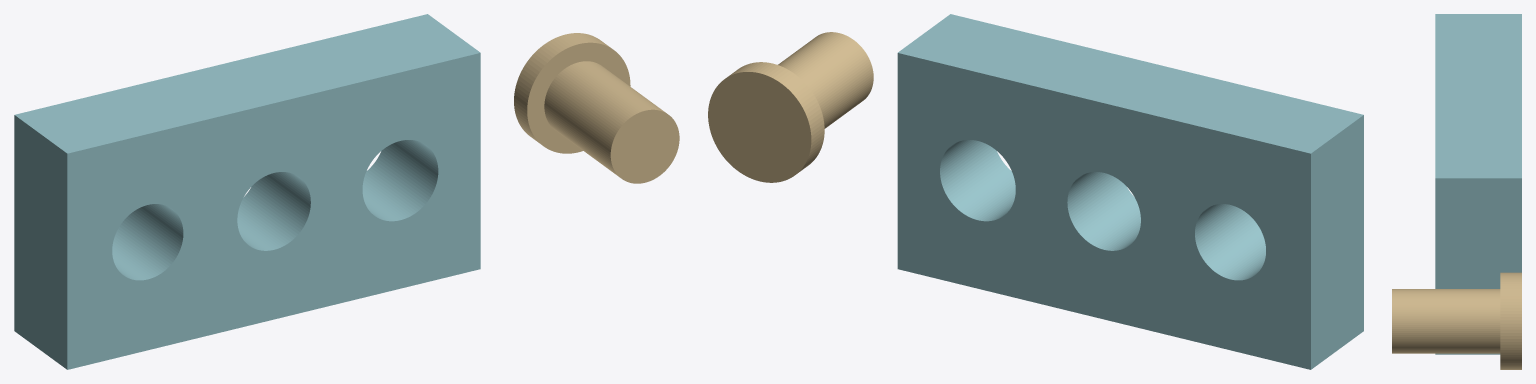
File: assembly.glb
3 renders of one model, left to right at view 1: azimuth 30°, elevation 25°; view 2: azimuth 150°, elevation 25°; view 3: azimuth 270°, elevation 25°, orthographic. The views are drawn at different scales.
Parts seen in each view (by area): view 1: fit_block, plug; view 2: fit_block, plug; view 3: fit_block, plug.
Part boxes in pixels (x1,y1,x2,y2): fit_block: (14,14,480,369); plug: (514,33,679,183); fit_block: (897,14,1363,369); plug: (708,32,873,182); fit_block: (1435,14,1521,354); plug: (1392,272,1521,369).
Bounding box in the file's own units: 0.0525 × 0.018 × 0.012.
